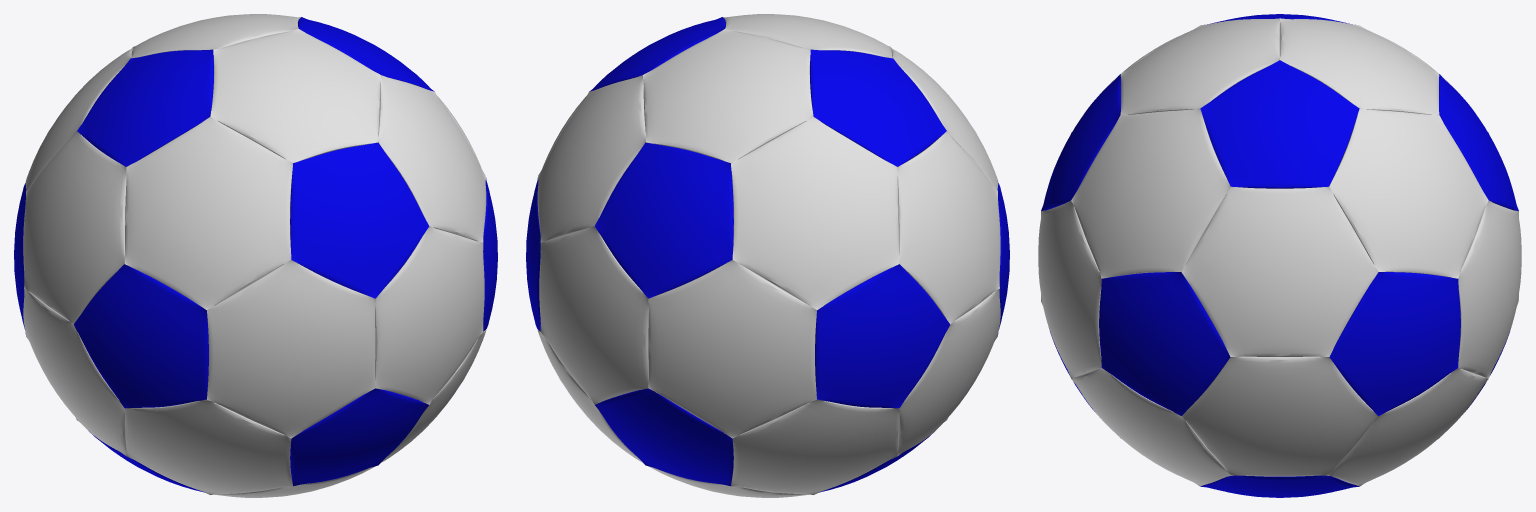
The model's file is soccerball.fbx.
3 renders of one model, left to right at view 1: azimuth 30°, elevation 25°; view 2: azimuth 150°, elevation 25°; view 3: azimuth 270°, elevation 25°, orthographic.
Parts seen in each view (by area): view 1: Solid.002; view 2: Solid.002; view 3: Solid.002.
Part boxes in pixels (x1,y1,x2,y2): Solid.002: (14, 14, 497, 497); Solid.002: (526, 14, 1009, 497); Solid.002: (1038, 14, 1521, 497).
Bounding box in the file's own units: 154 × 154 × 154.
